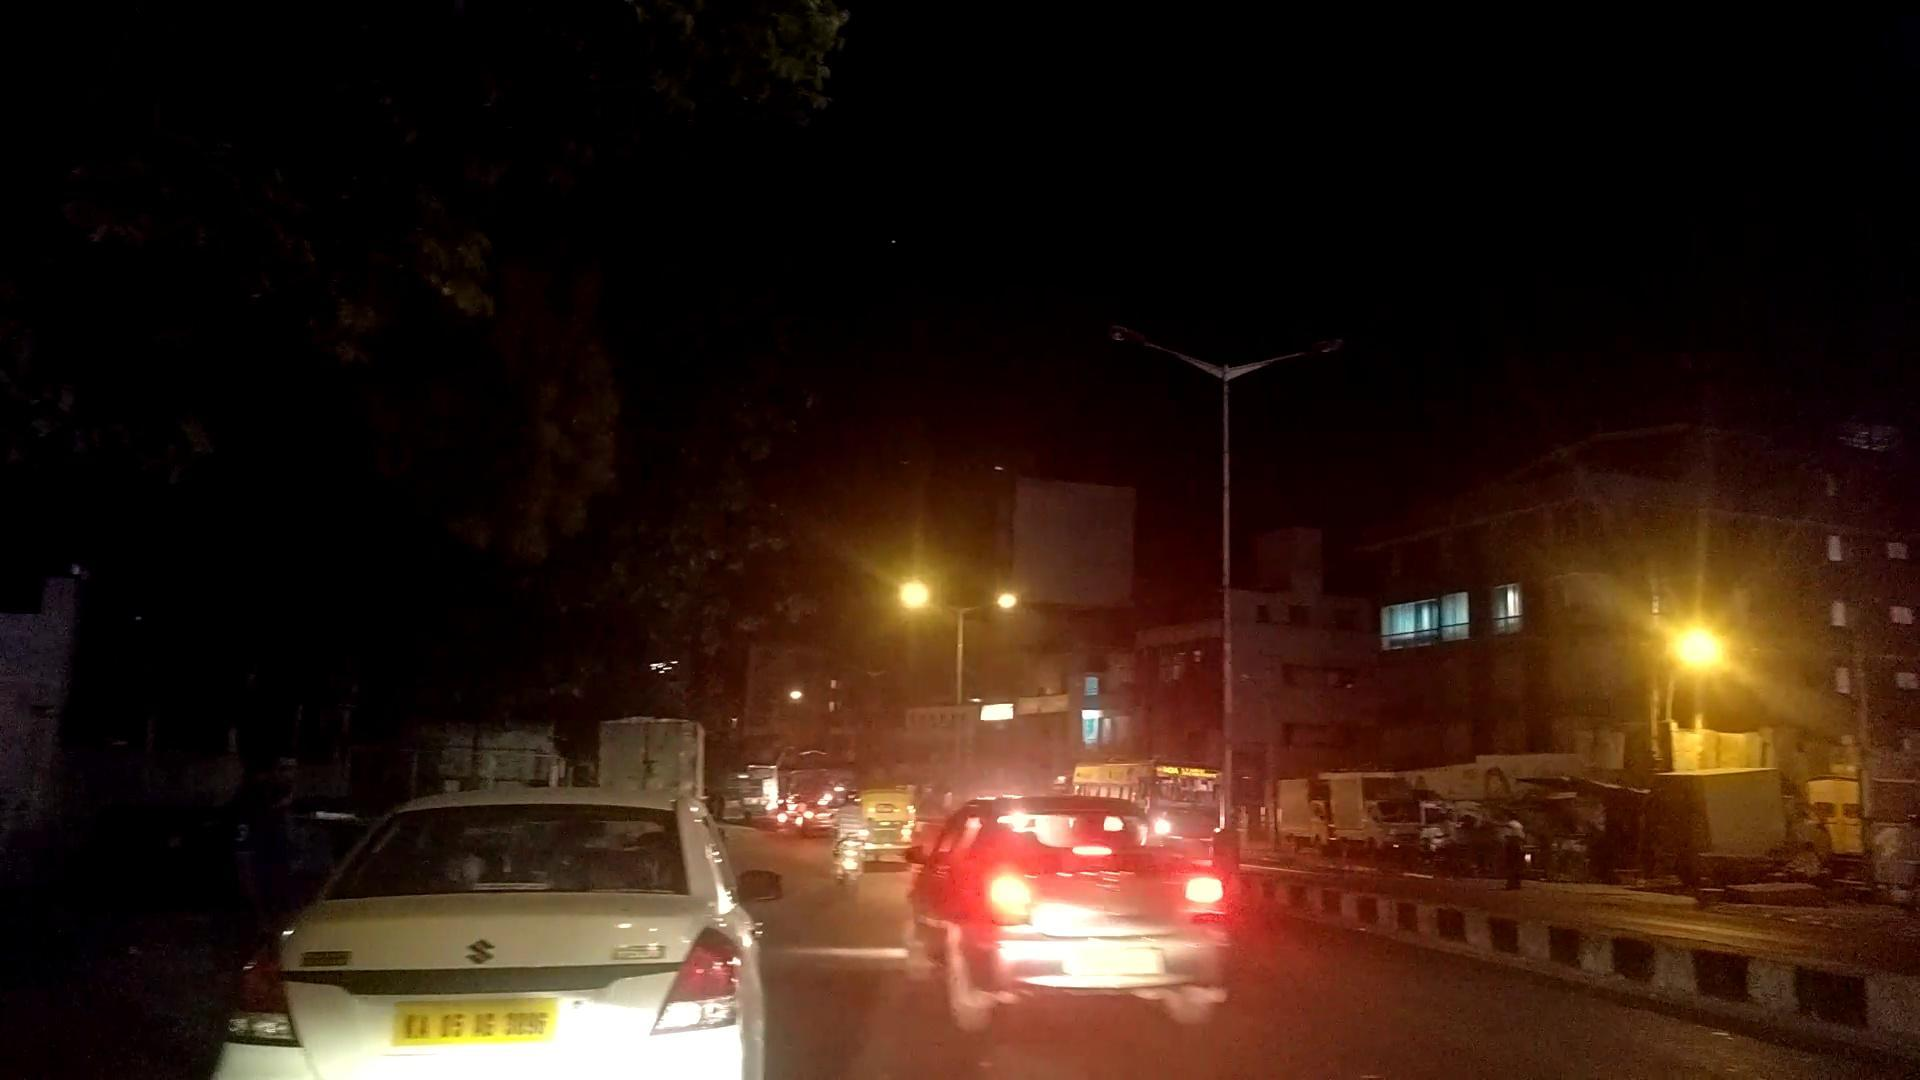on: (1240, 352, 1920, 907)
